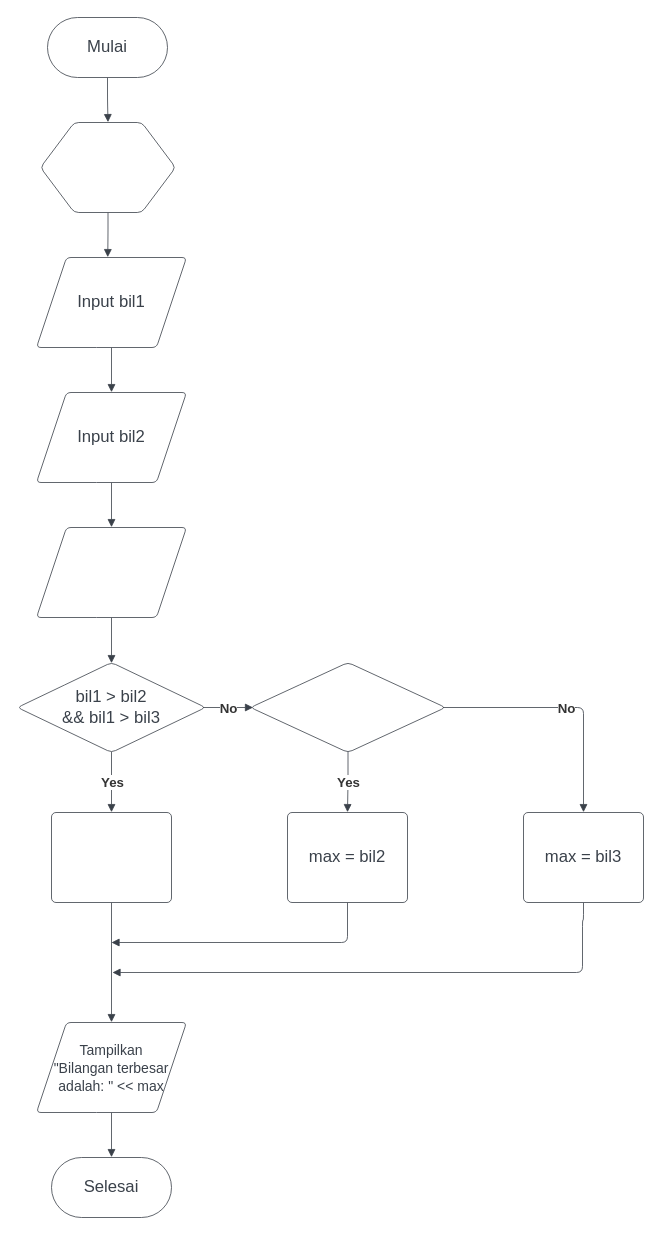
This 661x1235 diagram has some shape labels left out. Here are the shapes that lost their labels. From the top down, the centre of each, then its label:
At point 107,167: "int bil1, bil2, bil3, max".
At point 111,572: "Input bil3".
At point 347,707: "bil2 > bil3".
At point 111,857: "max = bil1".
